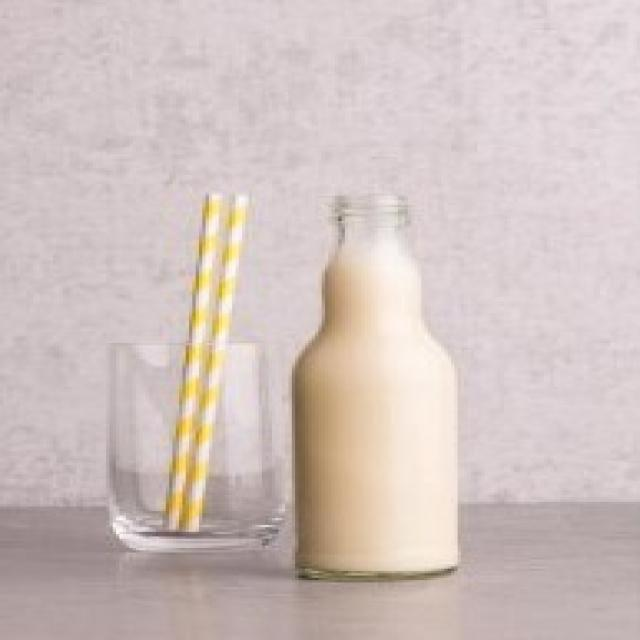electronic: (295, 194, 462, 585), (101, 336, 292, 557)
